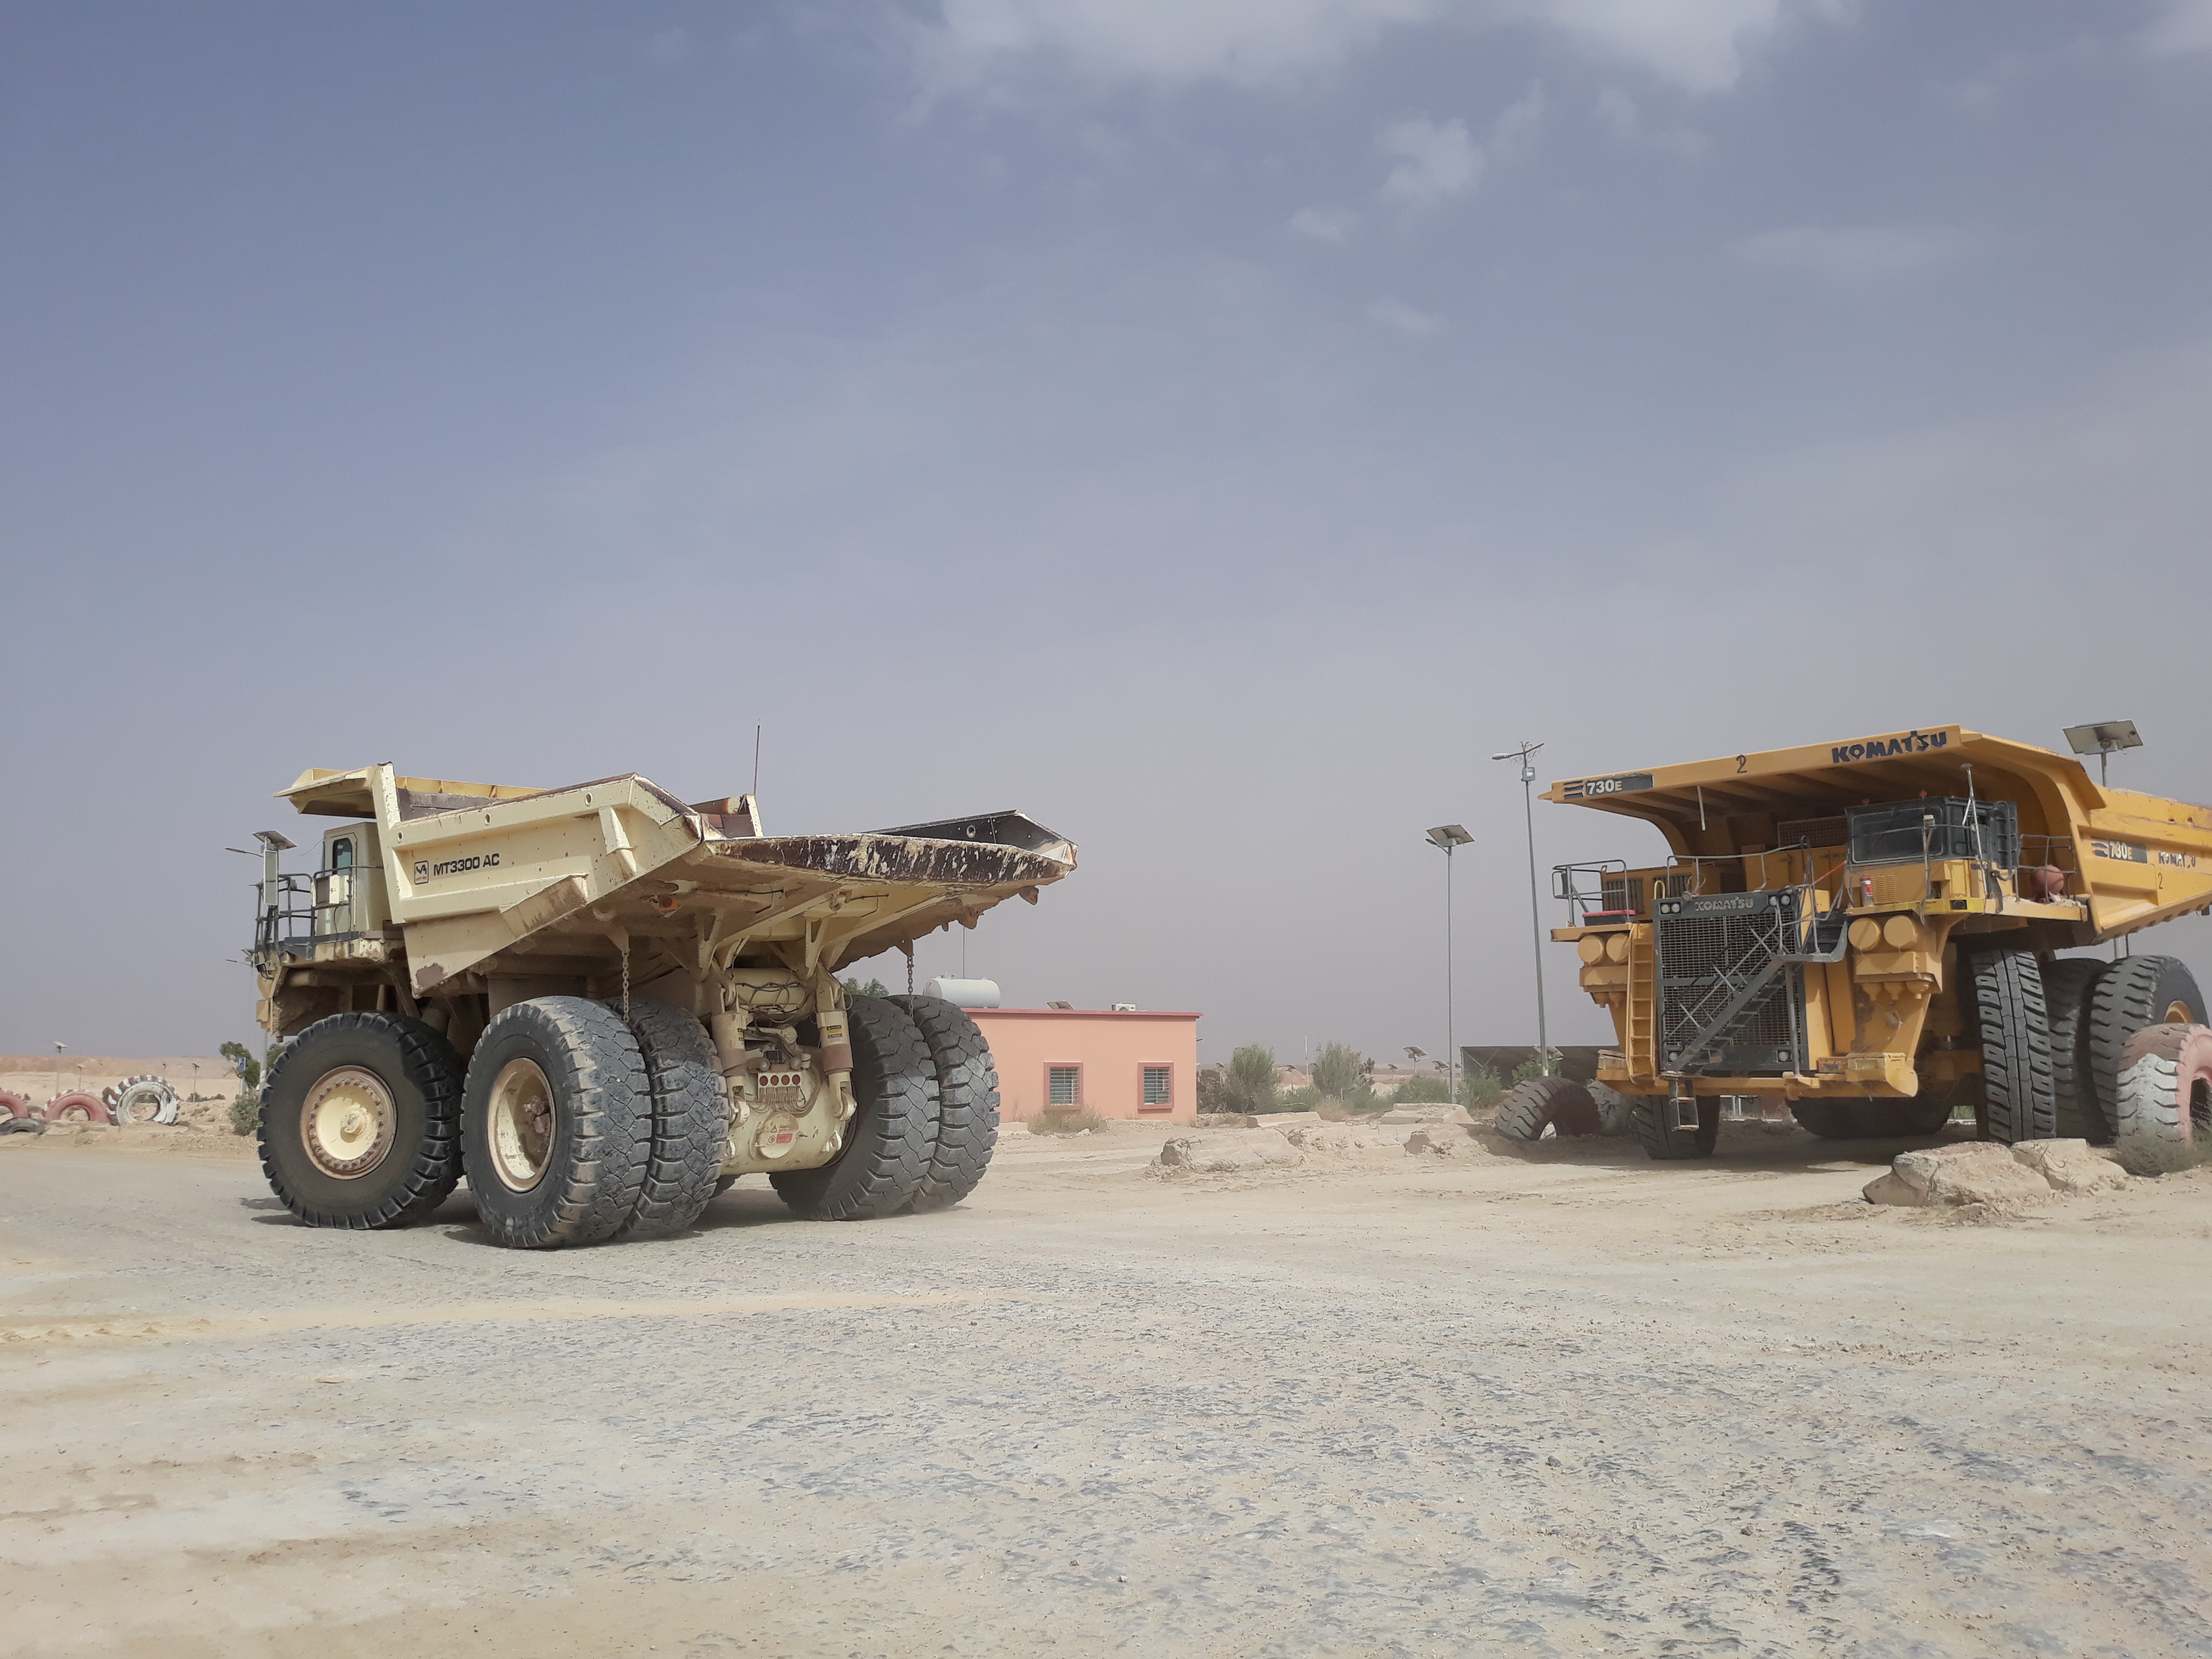camion: (197, 756, 1083, 1265), (1538, 728, 2207, 1178)
